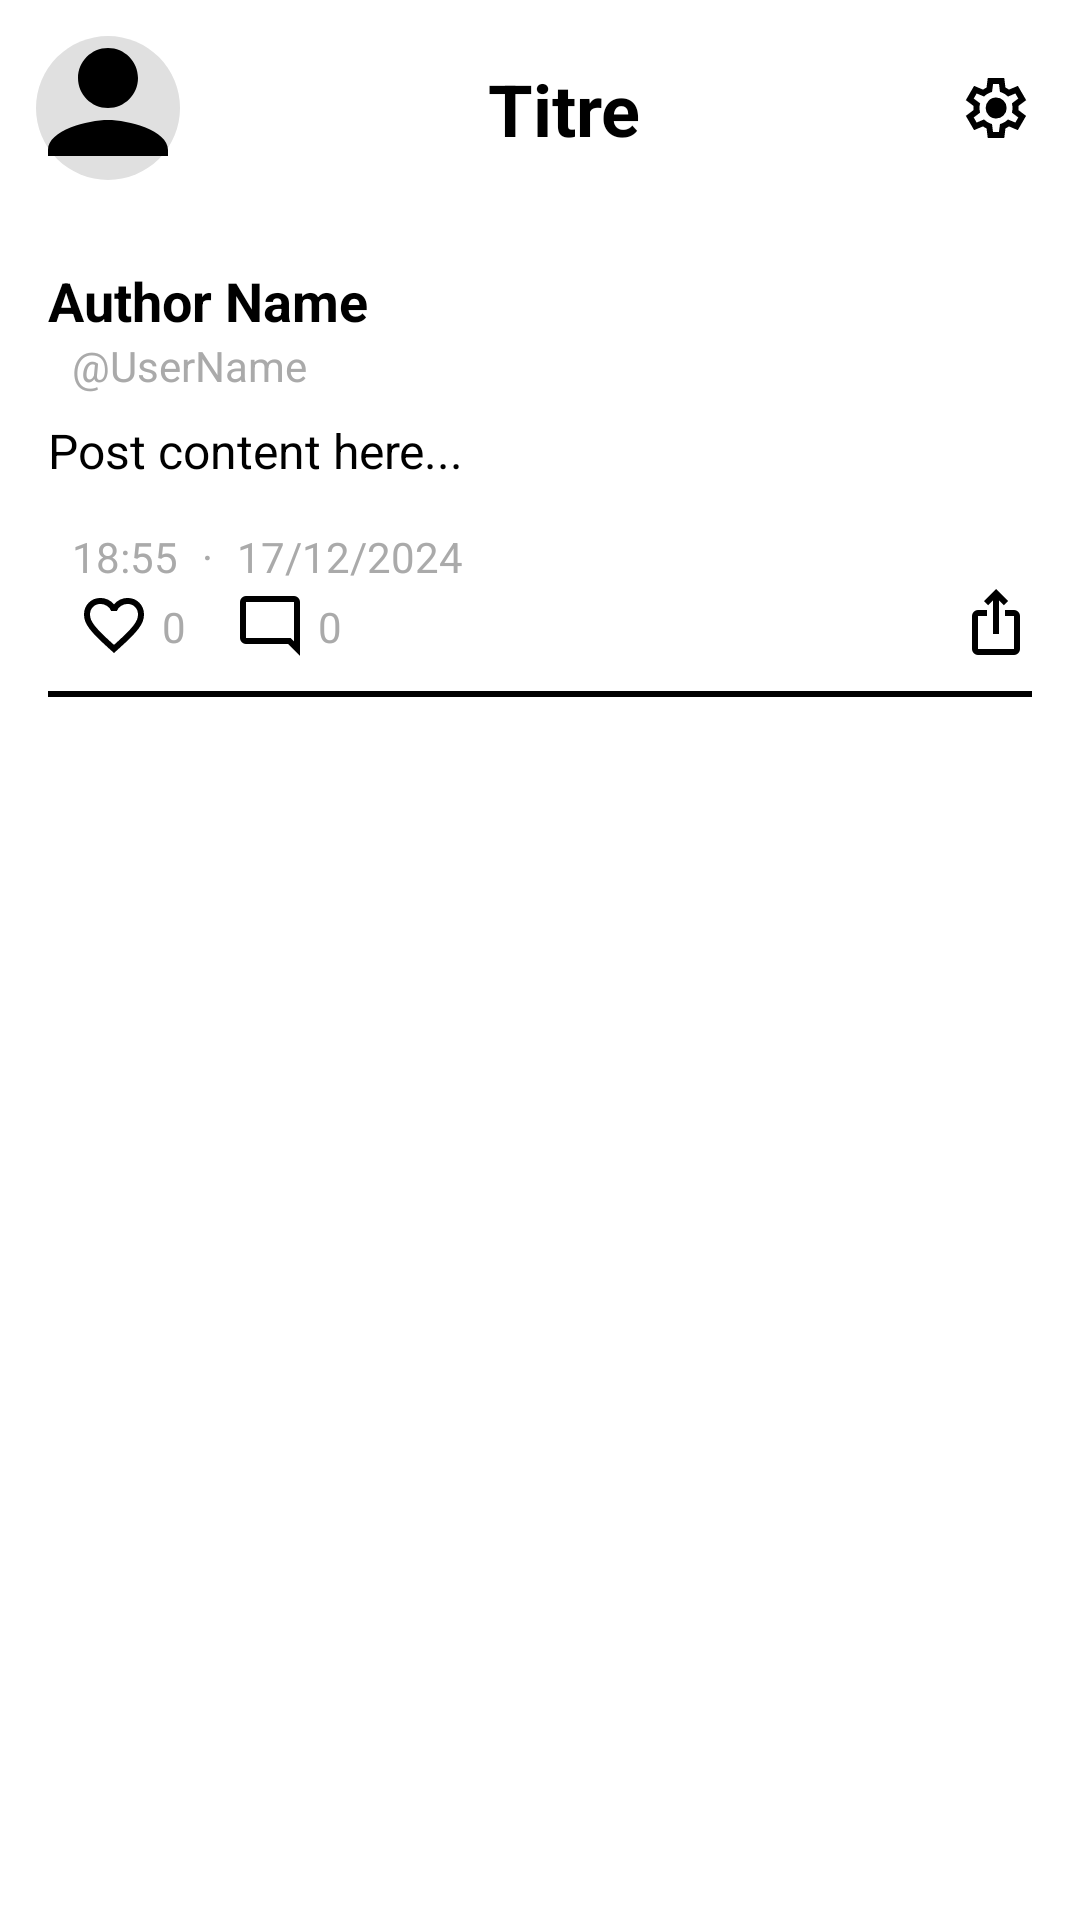

Icons on this 1080×1920 Android screen, each with the point to tap as point (x, y):
Bouton permettant de commenter un post: point (270, 626)
Bouton permettant de liker un post: point (114, 625)
Boutton permettant de partager un post: point (996, 622)
Image de profil: point (108, 108)
Paramètres: point (996, 108)
